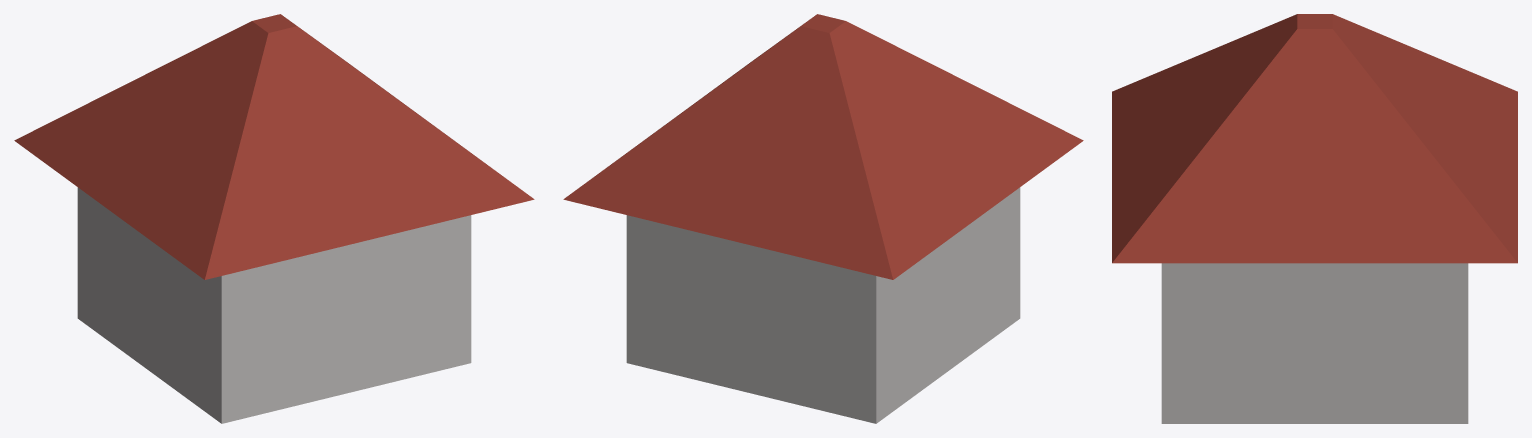
The model's file is house.fbx.
The picture shows the model from 3 angles, left to right: view 1: azimuth 30°, elevation 25°; view 2: azimuth 150°, elevation 25°; view 3: azimuth 270°, elevation 25°; orthographic projection. The views are drawn at different scales.
Visible parts, largest first — view 1: pCube1; view 2: pCube1; view 3: pCube1.
Part boxes in pixels (box(x1,y1,x2,y2)): pCube1: box(14, 14, 534, 423); pCube1: box(563, 14, 1083, 423); pCube1: box(1112, 14, 1517, 423).
Size of the model in its own units: 1.32 by 1.21 by 1.32.
Materials: 1 (1 with a texture image).
